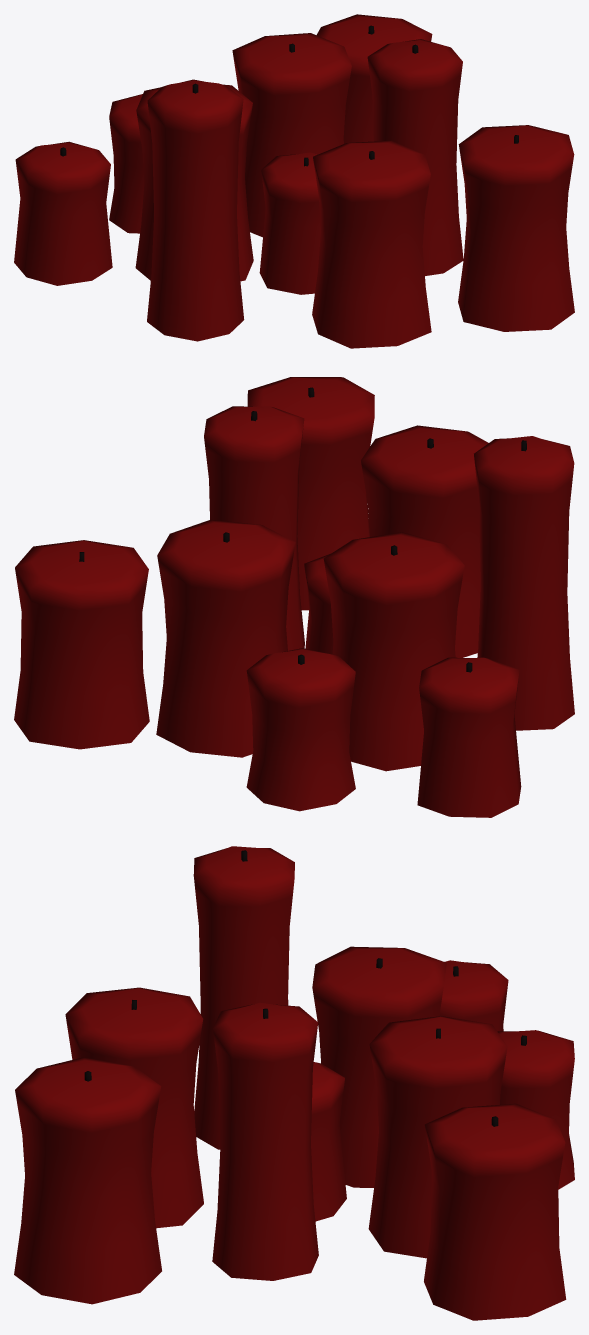
File: Candles.fbx
3 views of the same model, one above another, from view 1: azimuth 30°, elevation 25°; view 2: azimuth 150°, elevation 25°; view 3: azimuth 270°, elevation 25° (orthographic). The views are drawn at different scales.
Visible parts, largest first — view 1: Candle_03, Candle_02, Candle_01, Candle_08, Candle_06, Candle_10, Candle_05, Candle_07, Candle_04, Candle_09; view 2: Candle_07, Candle_08, Candle_03, Candle_04, Candle_09, Candle_10, Candle_02, Candle_01, Candle_06, Candle_05; view 3: Candle_01, Candle_07, Candle_06, Candle_08, Candle_03, Candle_02, Candle_04, Candle_09, Candle_05, Candle_10.
Boxes of the visible parts, x1=… form: Candle_03: x1=147, y1=79, x2=244, y2=341; Candle_02: x1=312, y1=140, x2=431, y2=348; Candle_01: x1=458, y1=125, x2=574, y2=331; Candle_08: x1=232, y1=33, x2=351, y2=237; Candle_06: x1=367, y1=39, x2=463, y2=275; Candle_10: x1=14, y1=141, x2=112, y2=285; Candle_05: x1=259, y1=152, x2=320, y2=294; Candle_07: x1=316, y1=14, x2=432, y2=143; Candle_04: x1=135, y1=84, x2=253, y2=281; Candle_09: x1=109, y1=94, x2=144, y2=233; Candle_07: x1=14, y1=540, x2=149, y2=749; Candle_08: x1=156, y1=519, x2=295, y2=757; Candle_03: x1=474, y1=436, x2=574, y2=730; Candle_04: x1=323, y1=532, x2=464, y2=771; Candle_09: x1=246, y1=648, x2=355, y2=811; Candle_10: x1=417, y1=657, x2=521, y2=817; Candle_02: x1=361, y1=425, x2=488, y2=657; Candle_01: x1=247, y1=377, x2=374, y2=610; Candle_06: x1=204, y1=406, x2=304, y2=650; Candle_05: x1=304, y1=553, x2=333, y2=654; Candle_01: x1=14, y1=1057, x2=161, y2=1304; Candle_07: x1=424, y1=1103, x2=566, y2=1320; Candle_06: x1=212, y1=1002, x2=318, y2=1280; Candle_08: x1=368, y1=1016, x2=507, y2=1258; Candle_03: x1=193, y1=846, x2=294, y2=1149; Candle_02: x1=65, y1=987, x2=203, y2=1228; Candle_04: x1=312, y1=946, x2=446, y2=1187; Candle_09: x1=497, y1=1030, x2=574, y2=1189; Candle_05: x1=311, y1=1062, x2=346, y2=1221; Candle_10: x1=439, y1=960, x2=508, y2=1031.
Size of the model in its own units: 99.31 by 98.61 by 53.88.
